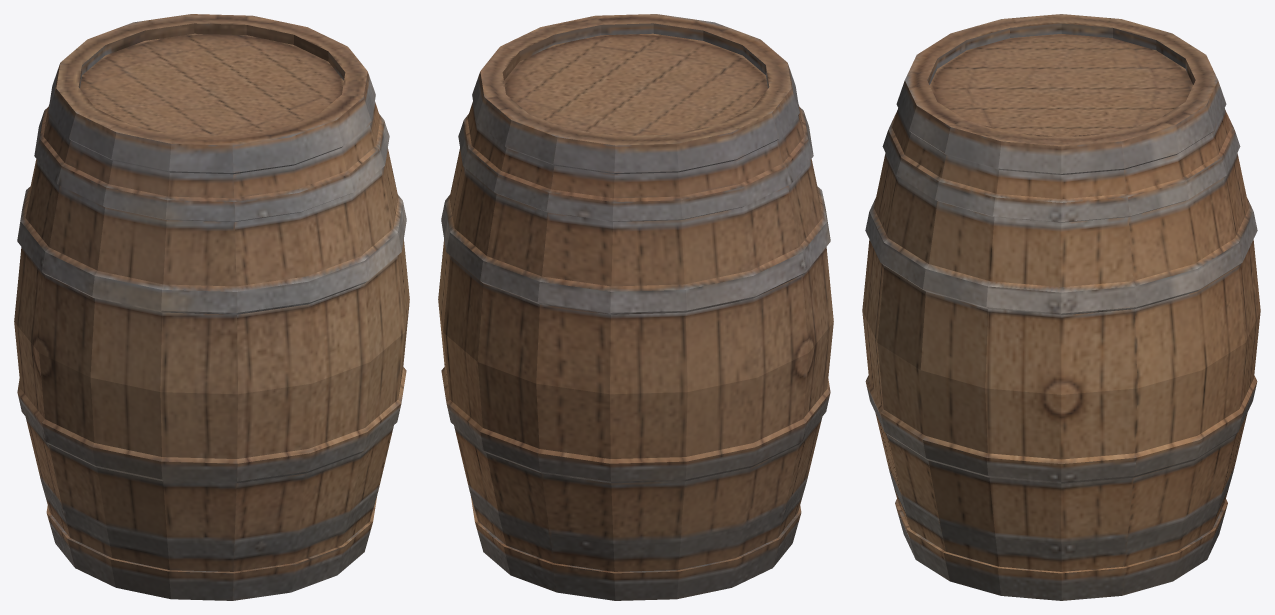
The model's file is OakBarrel.fbx.
The picture shows the model from 3 angles, left to right: view 1: azimuth 30°, elevation 25°; view 2: azimuth 150°, elevation 25°; view 3: azimuth 270°, elevation 25°; orthographic projection.
Visible parts, largest first — view 1: OakBarrel_Low; view 2: OakBarrel_Low; view 3: OakBarrel_Low.
Boxes of the visible parts, box(x1,y1,x2,y2) form: OakBarrel_Low: box(14, 14, 409, 600); OakBarrel_Low: box(438, 14, 833, 600); OakBarrel_Low: box(862, 14, 1260, 600).
Bounding box in the file's own units: 0.7824 × 0.984 × 0.7824.
